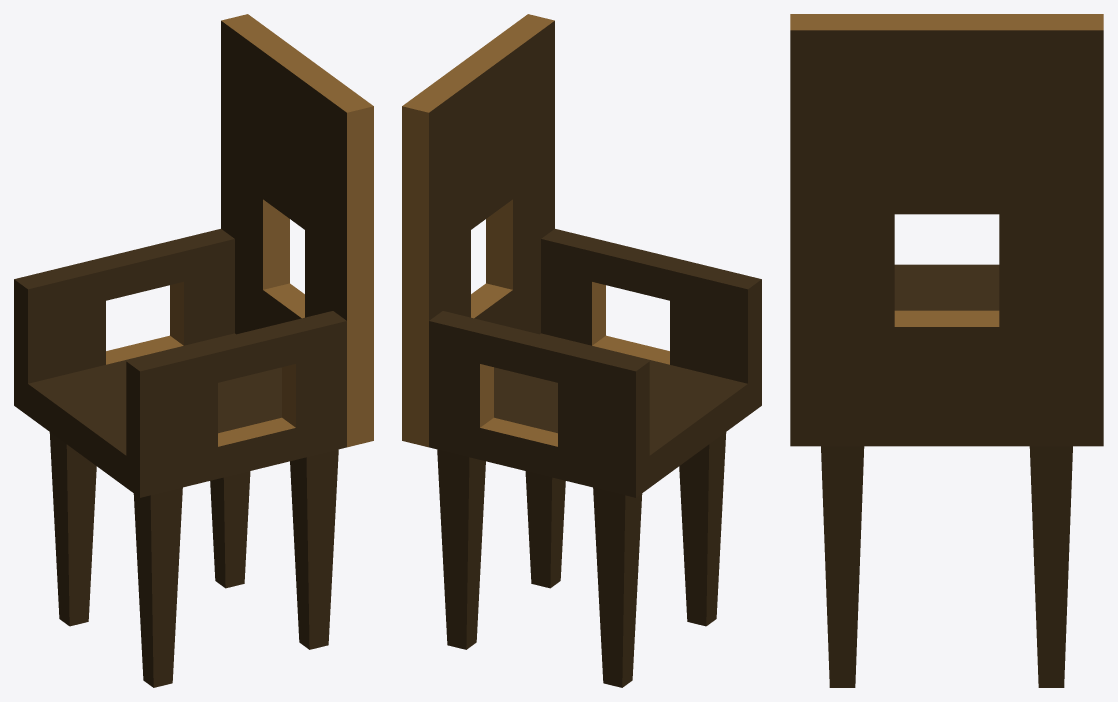
The model's file is Chair.fbx.
3 views of the same model, side by side, from view 1: azimuth 30°, elevation 25°; view 2: azimuth 150°, elevation 25°; view 3: azimuth 270°, elevation 25° (orthographic). The views are drawn at different scales.
Visible parts, largest first — view 1: Cube.001; view 2: Cube.001; view 3: Cube.001.
Boxes of the visible parts, x1=… form: Cube.001: x1=14, y1=14, x2=373, y2=687; Cube.001: x1=402, y1=14, x2=761, y2=687; Cube.001: x1=790, y1=14, x2=1103, y2=687.
Size of the model in its own units: 157 by 349 by 146.
